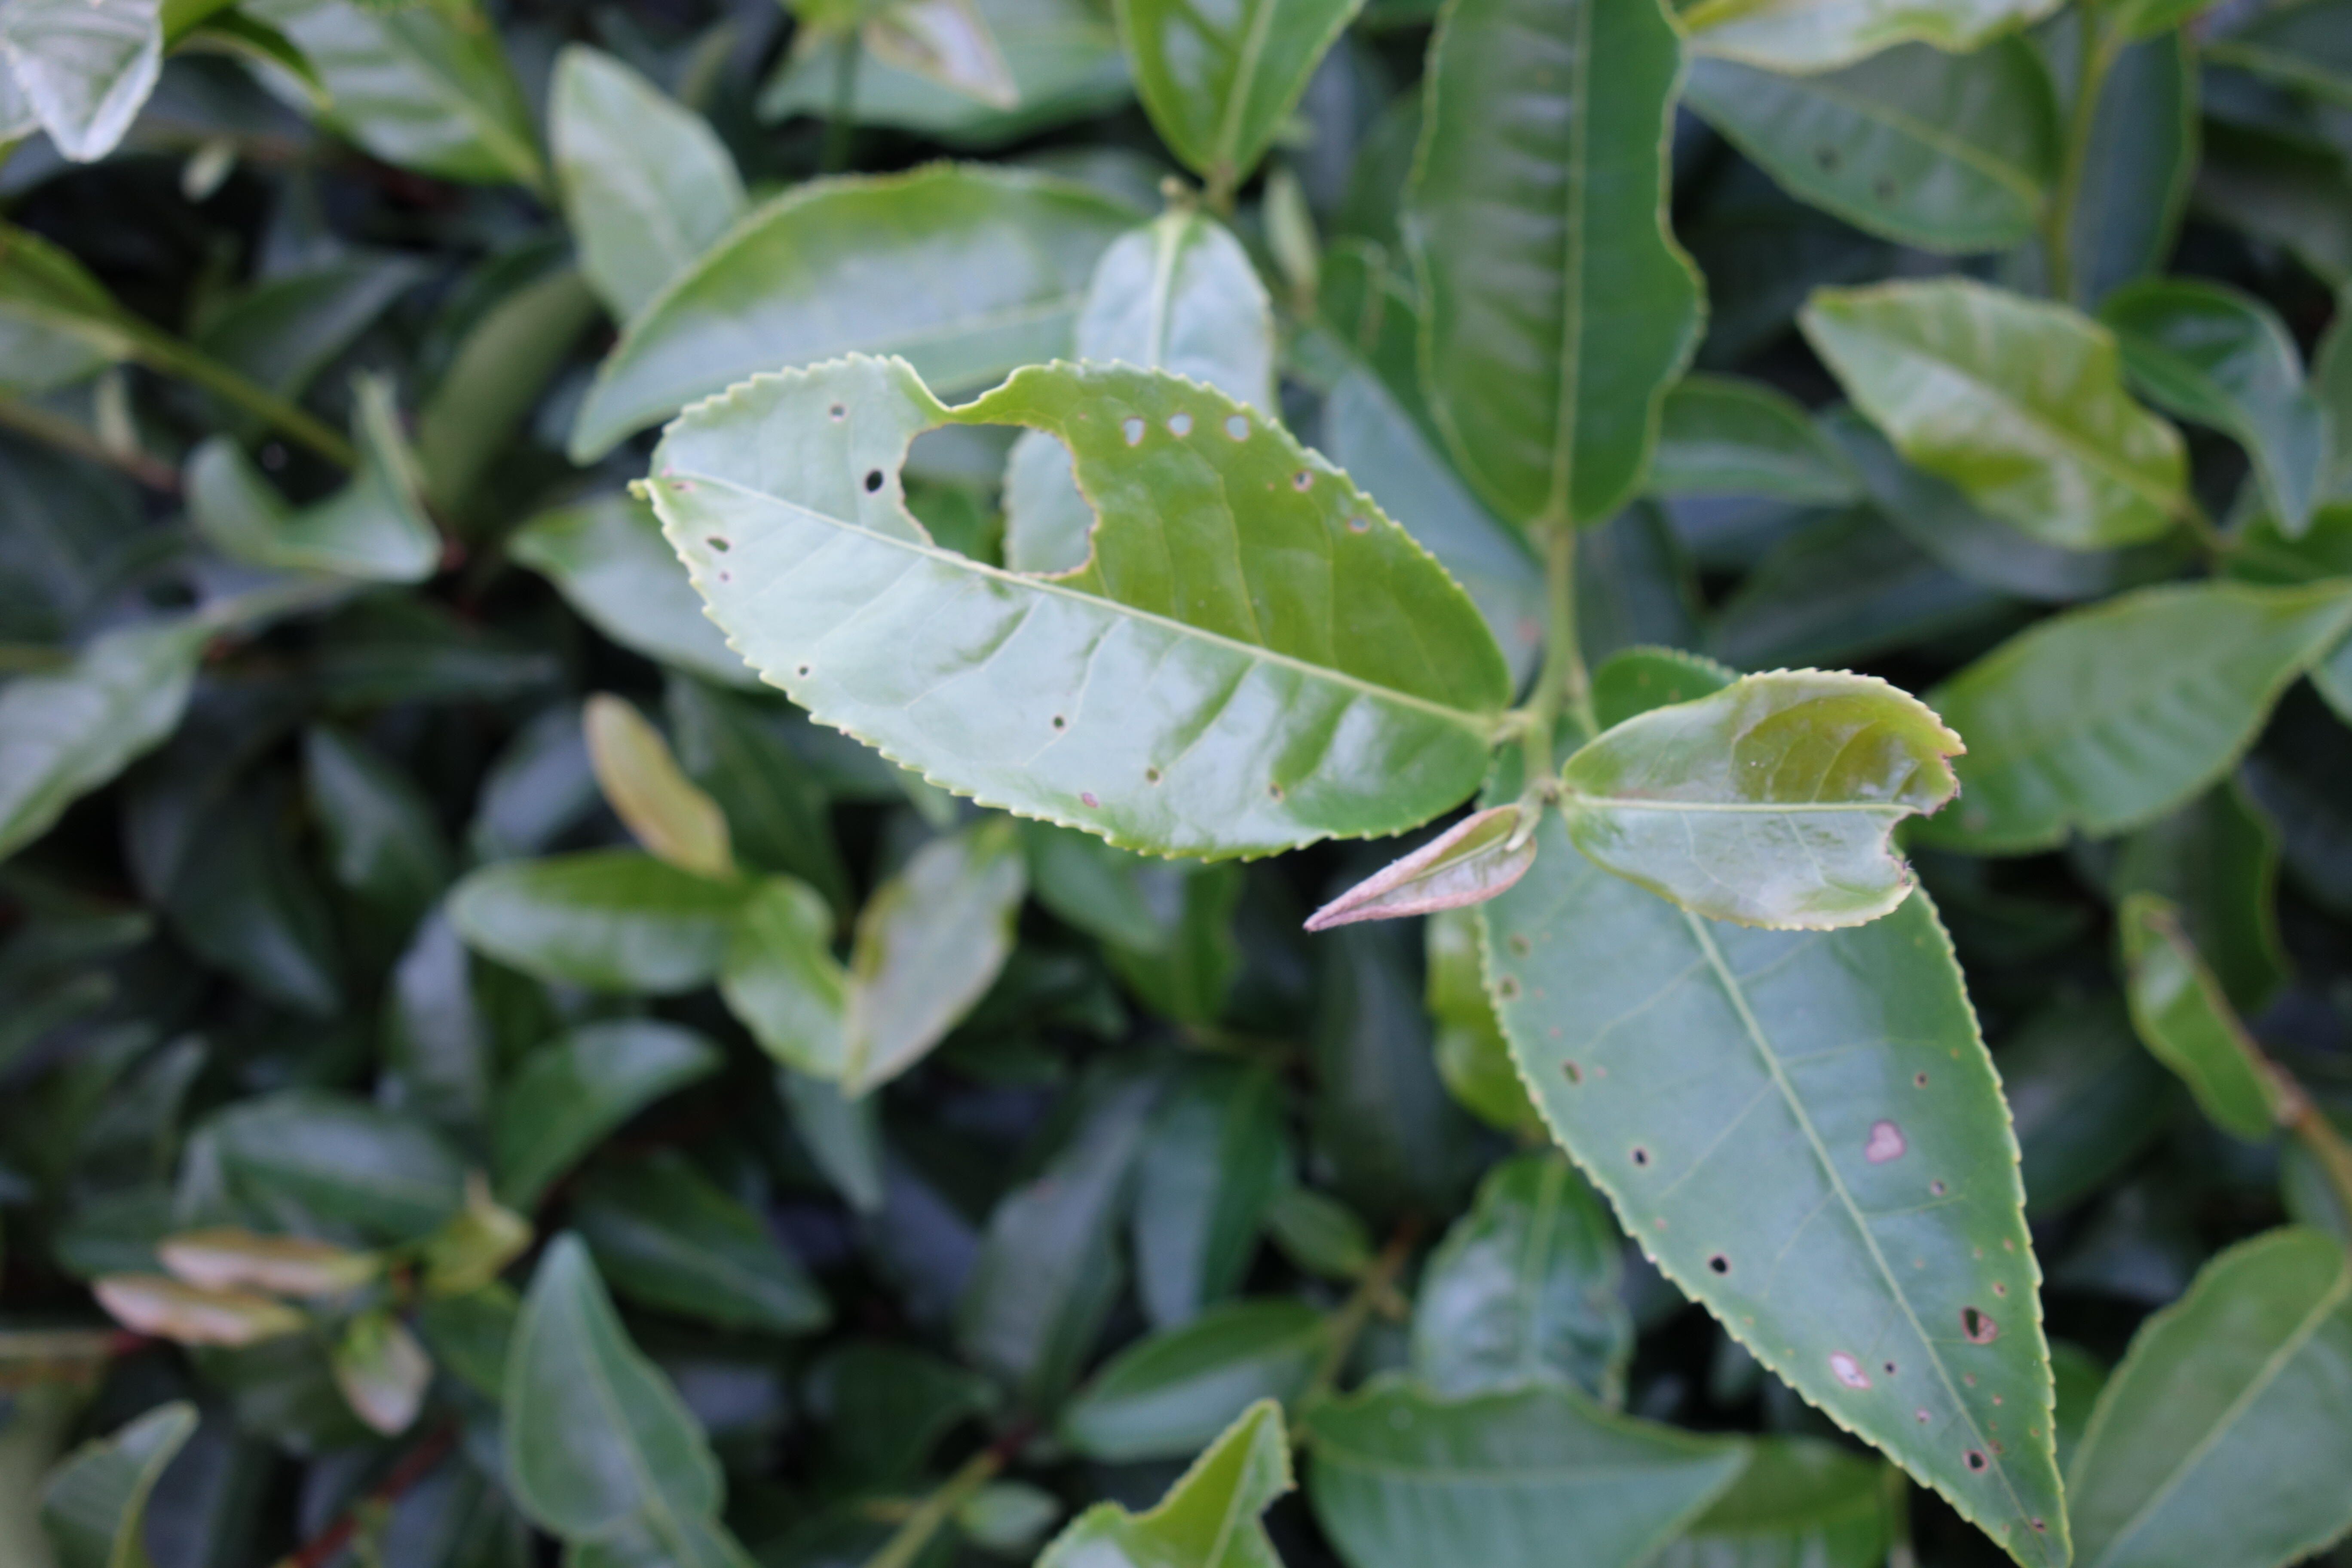chihuo_high: (1477, 646, 2081, 1563), (628, 348, 1510, 864)
chihuo_low: (1561, 663, 1969, 933)
tanju_low: (1298, 800, 1540, 933)
